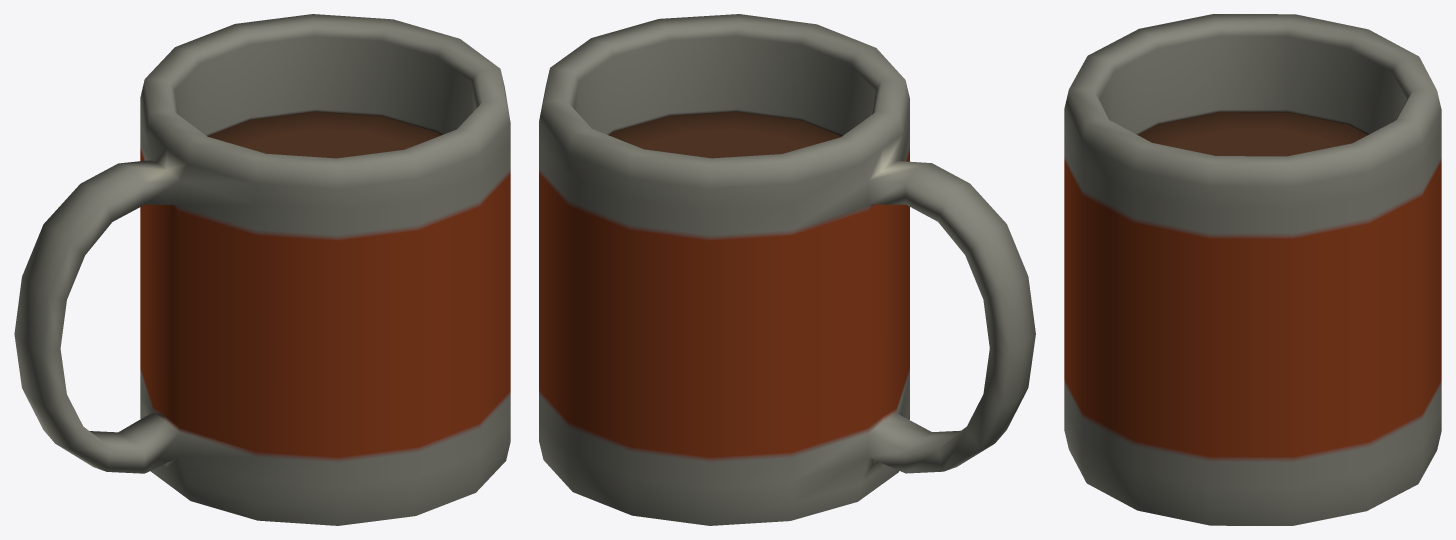
The model's file is mug_02.fbx.
3 views of the same model, side by side, from view 1: azimuth 30°, elevation 25°; view 2: azimuth 150°, elevation 25°; view 3: azimuth 270°, elevation 25° (orthographic).
Visible parts, largest first — view 1: mug02; view 2: mug02; view 3: mug02.
Boxes of the visible parts, <box> form: mug02: <box>14,14,510,525</box>; mug02: <box>539,14,1035,525</box>; mug02: <box>1064,14,1441,525</box>.
Bounding box in the file's own units: 210 × 156 × 148.
